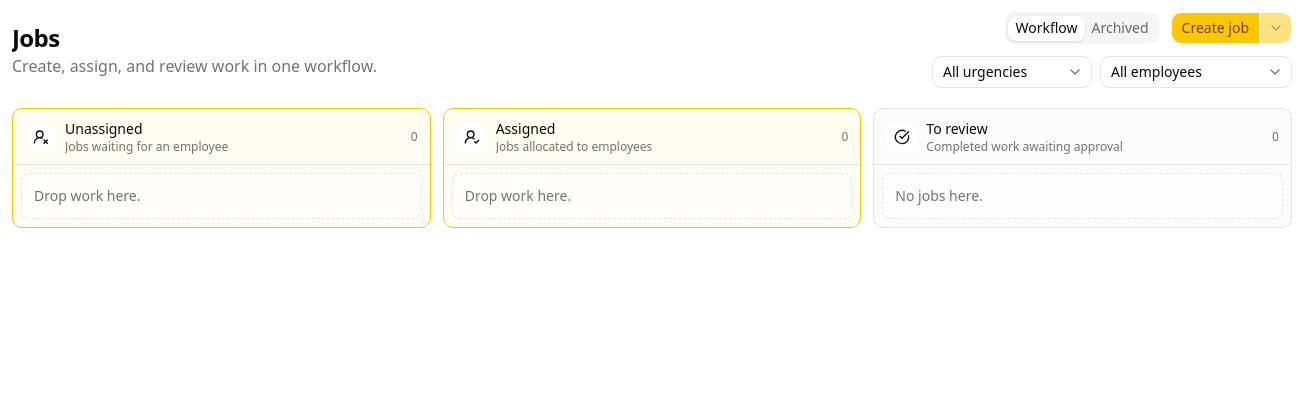
Test case: JobWorkspace › paginates archived jobs in pages of 15
Click the tab "Archived" at x=1120, y=28, box [1084, 16, 1156, 40]
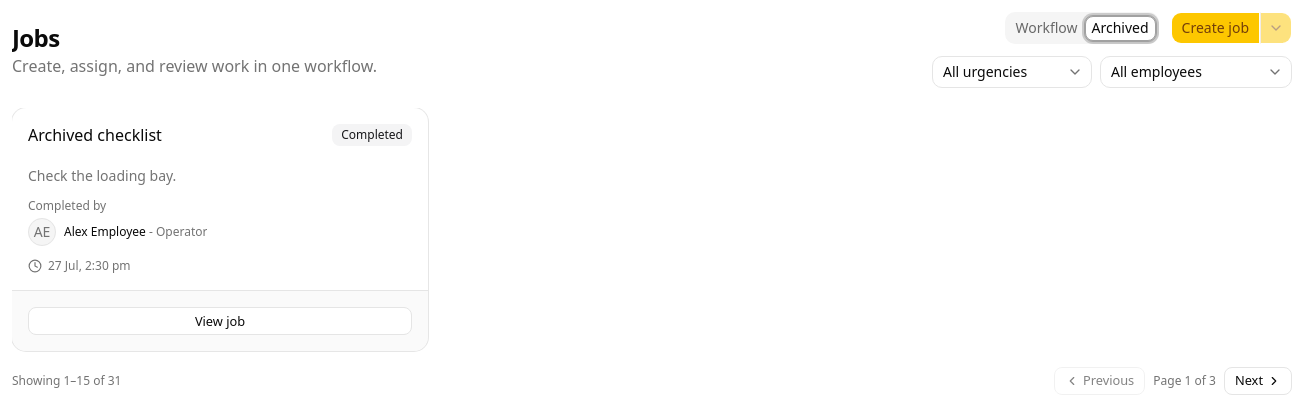
Expected: the navigation bar named "Archived jobs pagination" shows "Showing 1–15 of 31", [12, 367, 1292, 395]
Expected: the text "Page 1 of 3" is shown, [1153, 373, 1216, 389]
Expected: the button "Previous" is disabled, [1054, 367, 1145, 395]
